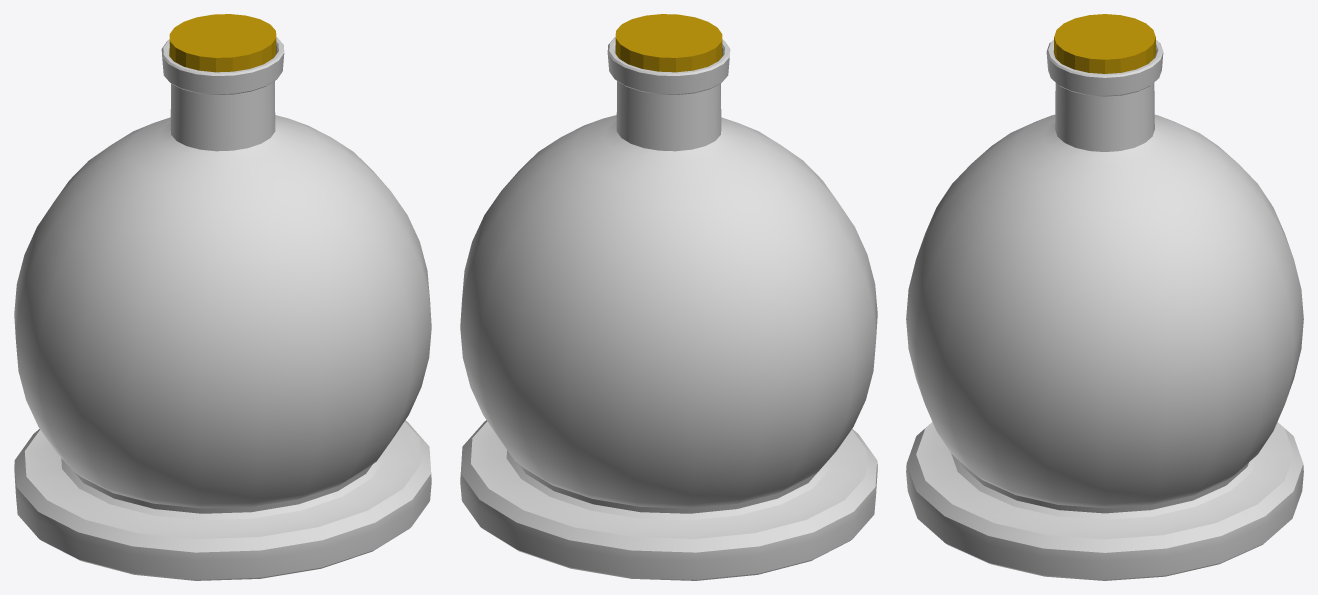
Rendered from absinthe.fbx.
3 views of the same model, side by side, from view 1: azimuth 30°, elevation 25°; view 2: azimuth 150°, elevation 25°; view 3: azimuth 270°, elevation 25° (orthographic).
Visible parts, largest first — view 1: verre2, bouchon; view 2: verre2, bouchon; view 3: verre2, bouchon.
Part boxes in pixels (x1,y1,x2,y2): verre2: (14,37,431,580); bouchon: (169,14,276,72); verre2: (460,37,877,580); bouchon: (615,14,722,72); verre2: (906,40,1303,580); bouchon: (1054,14,1155,73).
Size of the model in its own units: 2.07 by 2.48 by 1.95.
